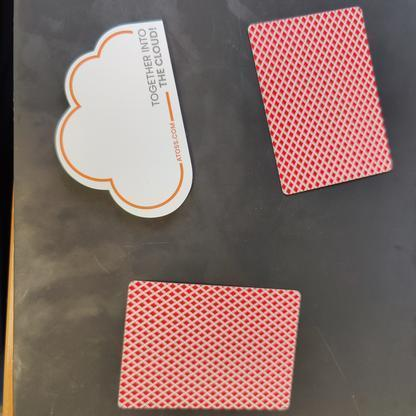card: (239, 2, 407, 200), (113, 275, 305, 415)
